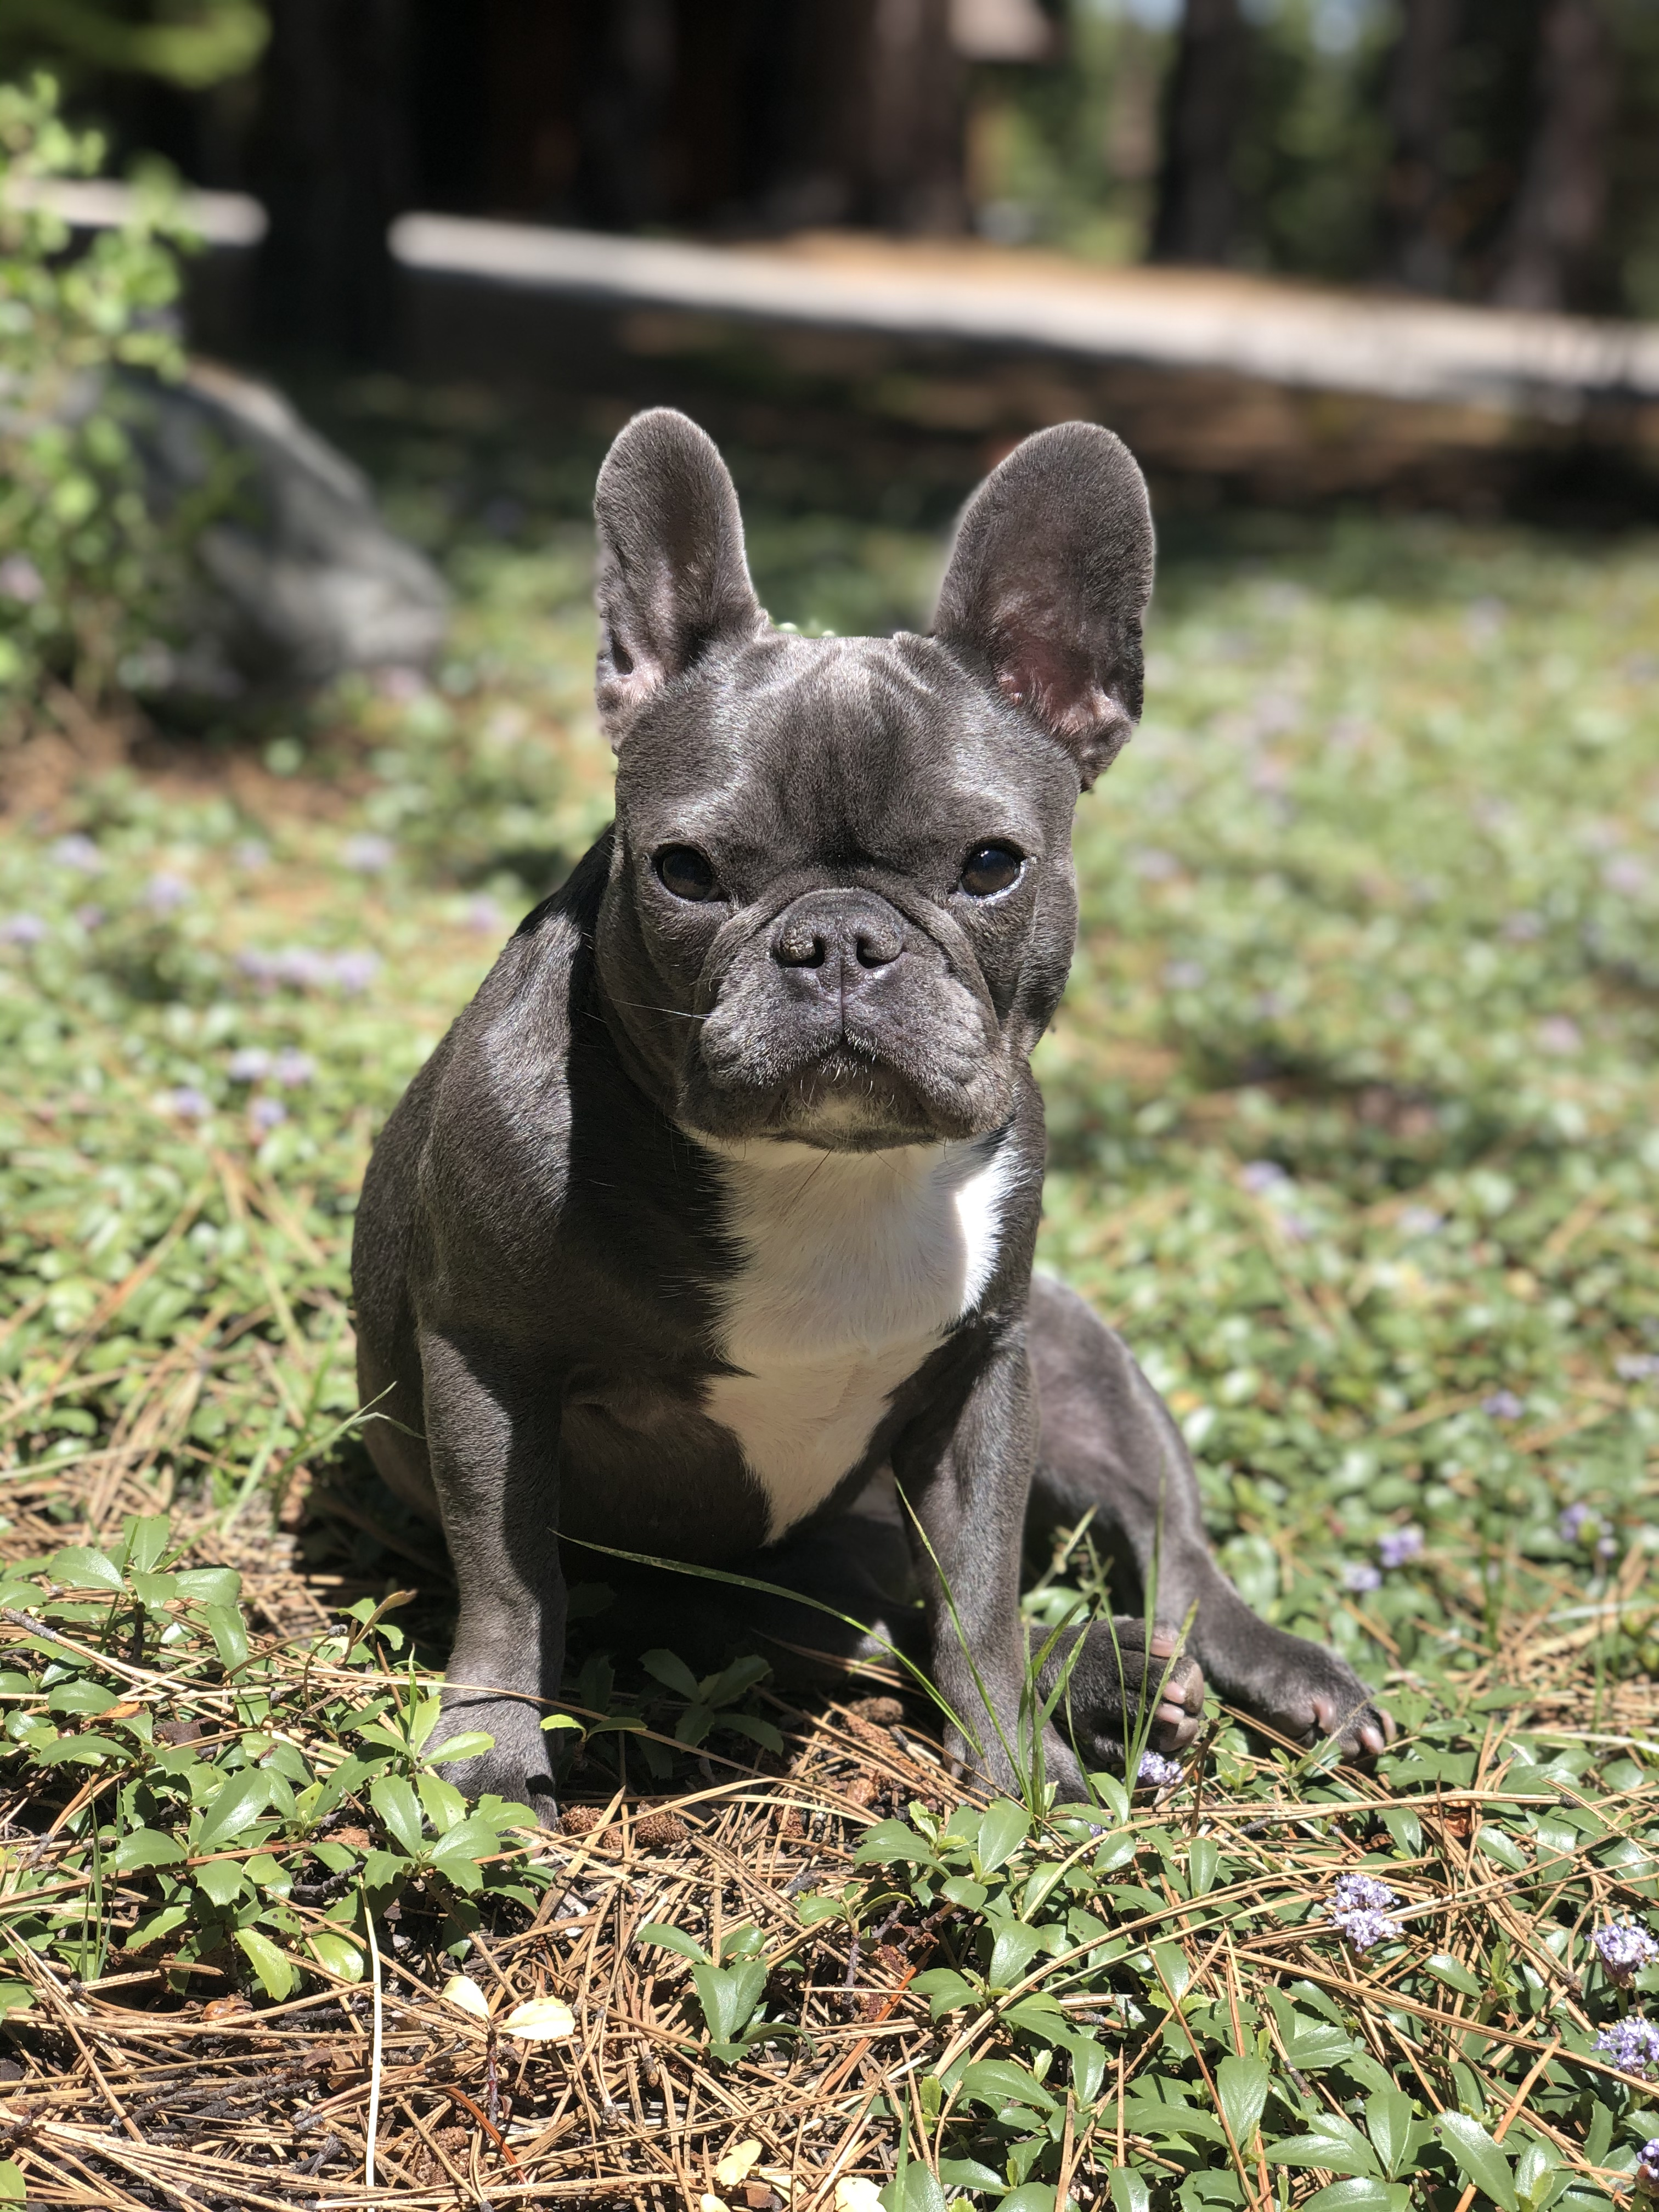lucy: (352, 401, 1399, 1831)
